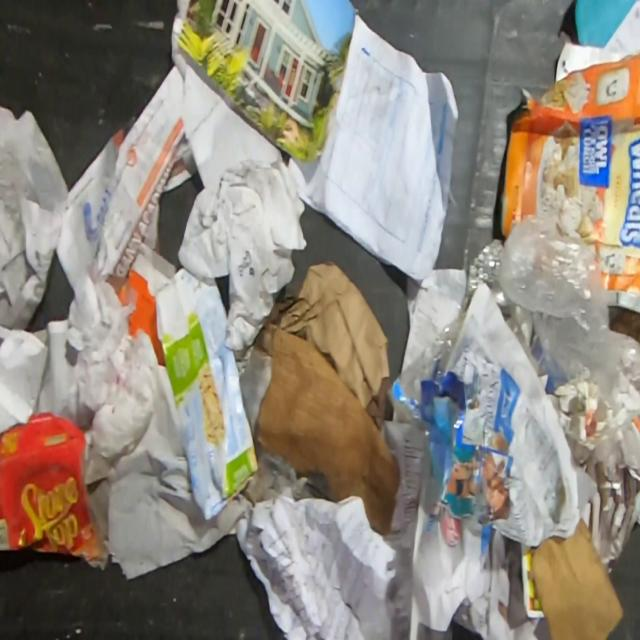cardboard: (499, 53, 640, 314), (253, 325, 400, 535), (390, 360, 513, 524), (0, 413, 109, 560), (532, 515, 625, 639)
rigid_plastic: (396, 238, 534, 401)
soft_plastic: (496, 217, 640, 406)
